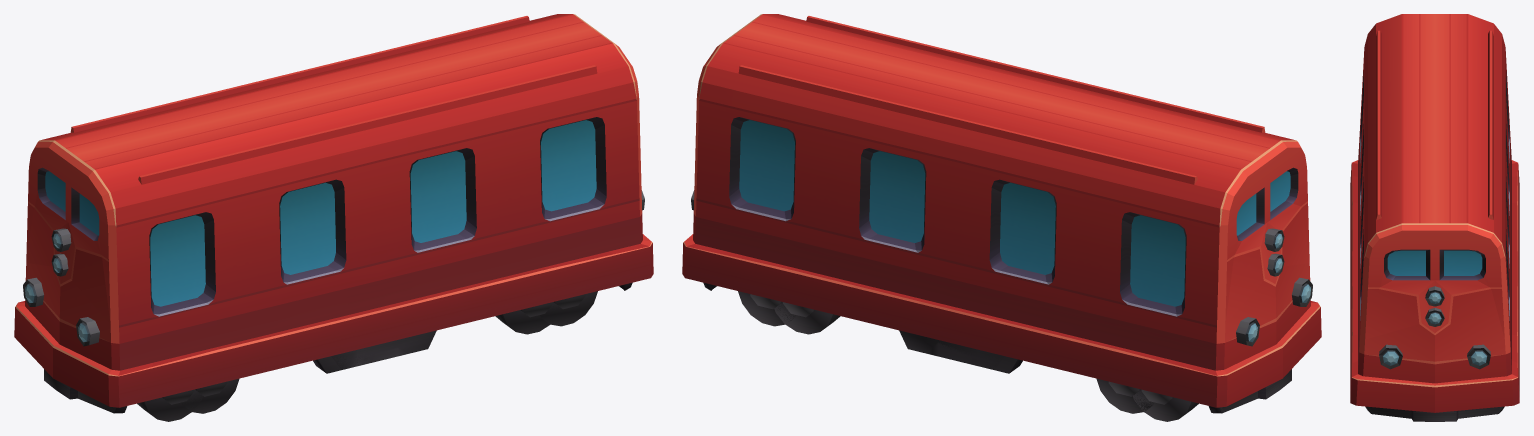
Rendered from Train_4.fbx.
The picture shows the model from 3 angles, left to right: view 1: azimuth 30°, elevation 25°; view 2: azimuth 150°, elevation 25°; view 3: azimuth 270°, elevation 25°; orthographic projection. The views are drawn at different scales.
Visible parts, largest first — view 1: Train_4; view 2: Train_4; view 3: Train_4.
Boxes of the visible parts, <box> form: Train_4: <box>14,14,653,421</box>; Train_4: <box>682,14,1321,421</box>; Train_4: <box>1350,14,1519,421</box>.
Bounding box in the file's own units: 686 × 296 × 217.
